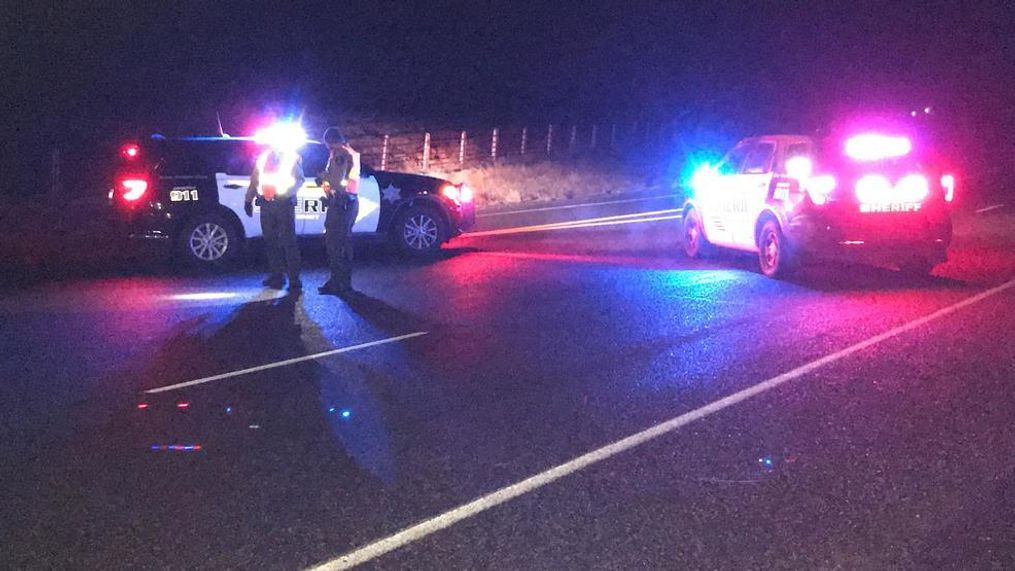Car: (647, 104, 961, 283), (99, 117, 264, 270)
Person: (317, 122, 374, 299)
